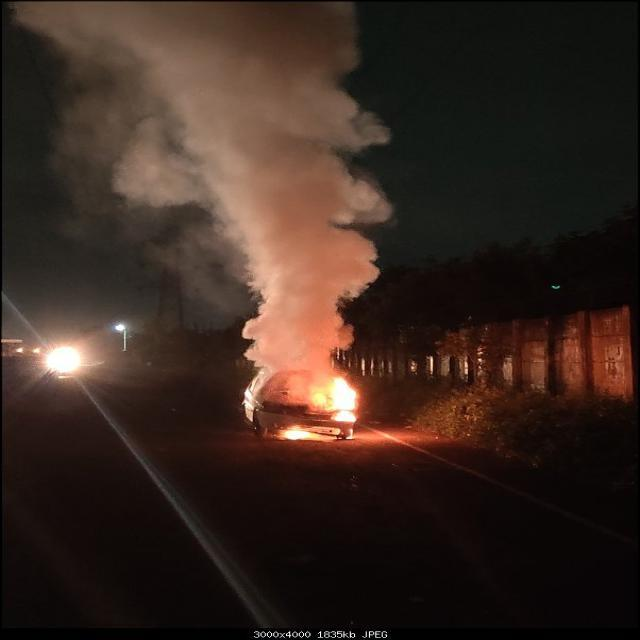Smoke: (78, 5, 340, 174), (248, 190, 356, 358)
